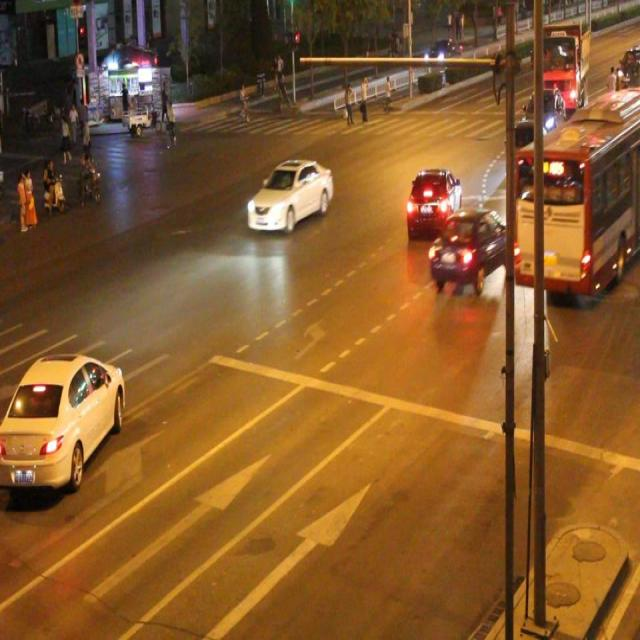car: (0, 350, 126, 488), (427, 208, 511, 290), (246, 156, 333, 232), (404, 168, 463, 239), (506, 120, 547, 184)
van: (515, 92, 640, 284)
